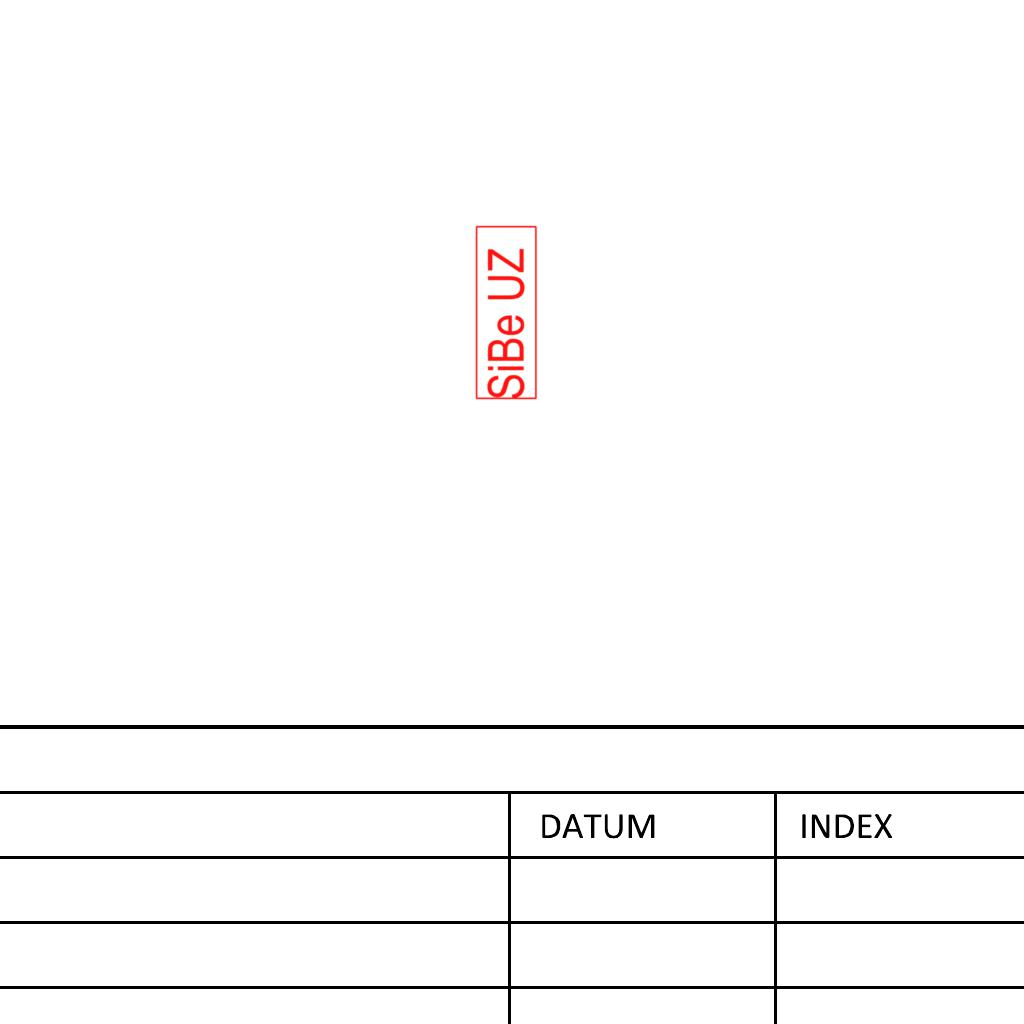Zentrale_Sicherheitsbeleuchtung: (474, 223, 539, 401)
